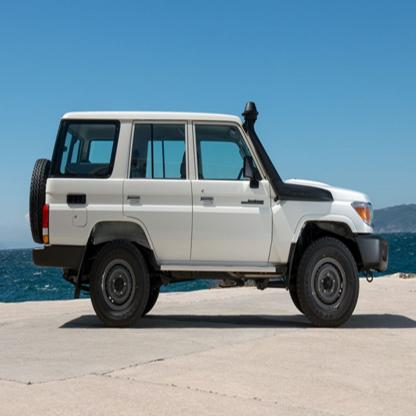light_vehicle: (19, 104, 394, 330)
